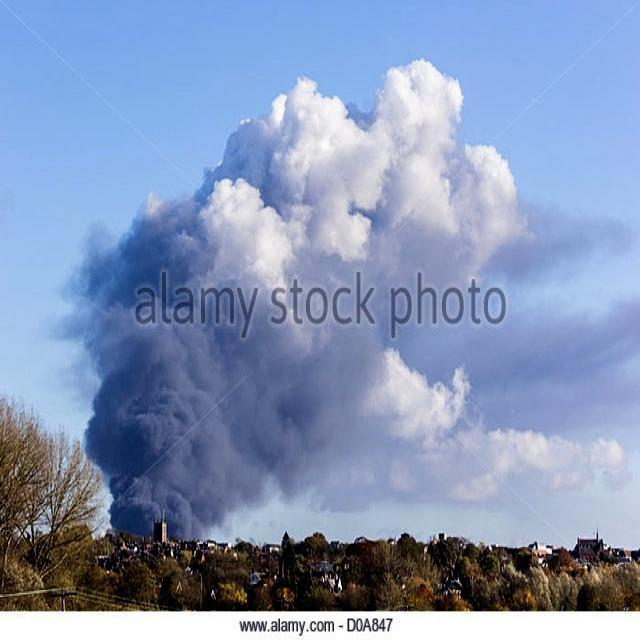Smoke: (90, 55, 490, 525)
